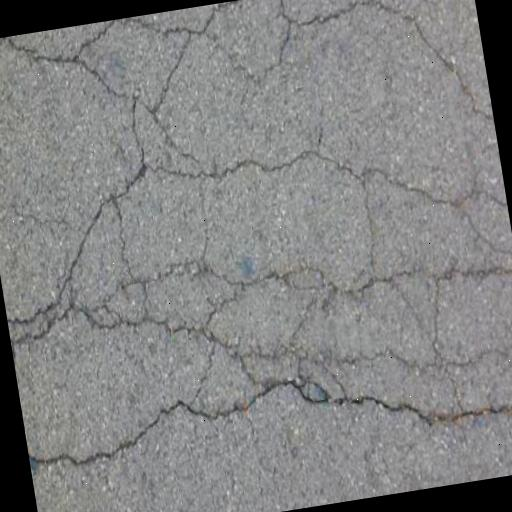spalling: (38, 366, 512, 482), (0, 38, 165, 354), (144, 134, 506, 277), (262, 0, 495, 131), (133, 252, 512, 306), (66, 293, 264, 386)
